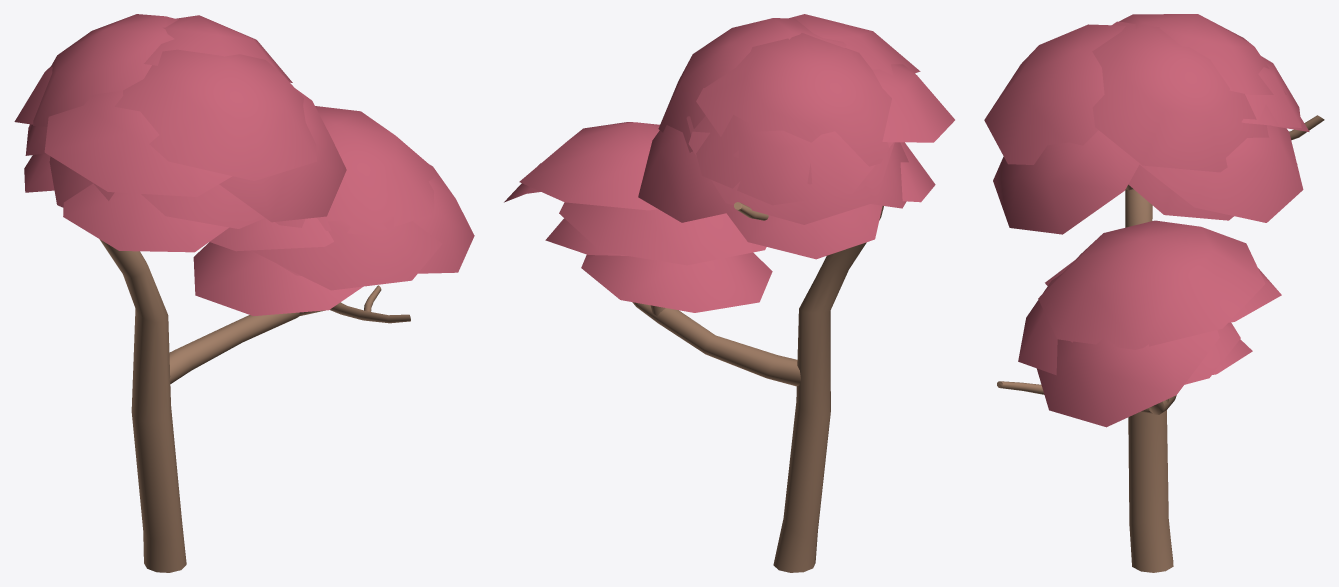
Rendered from Tree_6.glb.
The picture shows the model from 3 angles, left to right: view 1: azimuth 30°, elevation 25°; view 2: azimuth 150°, elevation 25°; view 3: azimuth 270°, elevation 25°; orthographic projection.
Visible parts, largest first — view 1: Tree_6; view 2: Tree_6; view 3: Tree_6.
Boxes of the visible parts, <box> form: Tree_6: <box>14,14,474,572</box>; Tree_6: <box>504,14,954,572</box>; Tree_6: <box>984,14,1324,572</box>.
Bounding box in the file's own units: 6.84 × 8.38 × 4.8.
